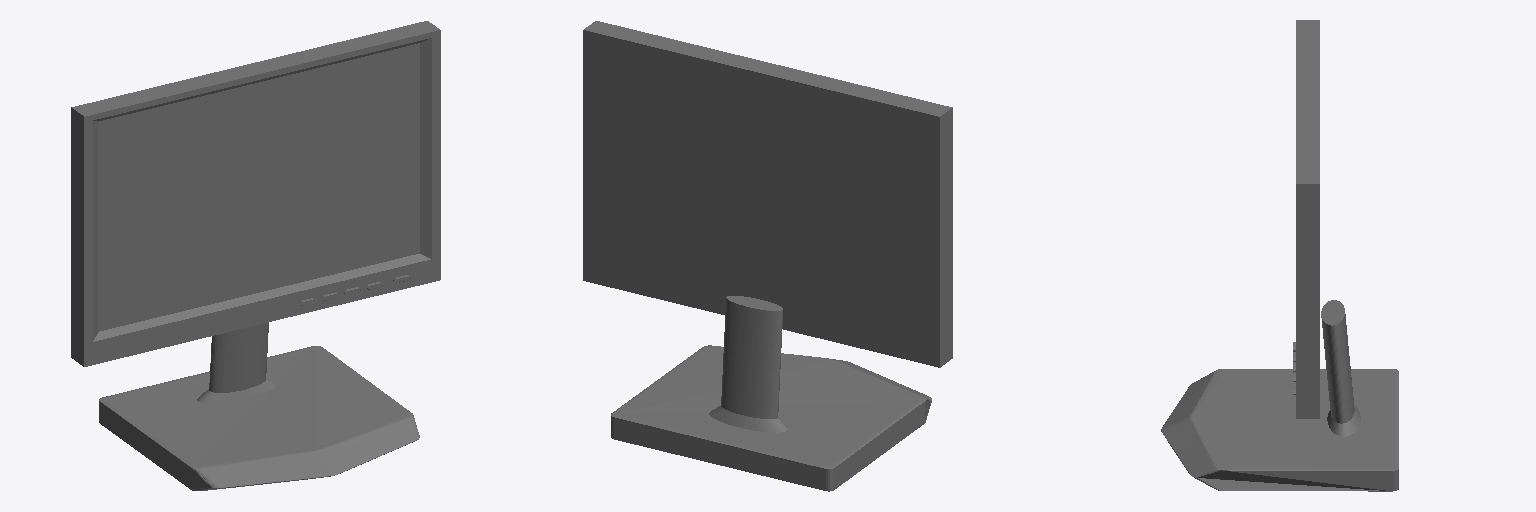
robot.urdf — tray:
<robot name="tray">
  <link name="tray_base_link">
    <contact>
      <lateral_friction value="0.5"/>
      <rolling_friction value="0.0"/>
      <contact_cfm value="0.0"/>
      <contact_erp value="1.0"/>
    </contact>
    <inertial>
      <origin rpy="0 0 0" xyz="0 0 0"/>
      <mass value="0"/>
      <inertia ixx="0" ixy="0" ixz="0" iyy="0" iyz="0" izz="0"/>
    </inertial>
    <visual>
      <origin rpy="0 0 0" xyz="0 0 0"/>
      <geometry>
        <!-- <mesh filename="tray_textured4.obj" scale="0.5 0.5 0.5"/> -->
        <!-- <mesh filename="monitor.obj" scale="0.005 0.005 0.005"/> -->
        <mesh filename="monitor_v1.obj" scale="0.65 0.65 0.65"/>
      </geometry>
  <material name="grey">
    <color rgba="0.5 0.5 0.5 1.0"/>
  </material>
    </visual>
    <collision>
      <origin rpy="0 0 0" xyz="0 0 0"/>
      <geometry>
        <!-- <mesh filename="tray_textured4.obj" scale="0.5 0.5 0.5"/> -->
        <!-- <mesh filename="monitor.obj" scale="0.005 0.005 0.005"/> -->
        <mesh filename="monitor_v1.obj" scale="0.65 0.65 0.65"/>
      </geometry>
    </collision>
  </link>
</robot>

--- Render facts (derived) ---
Views: 3 orthographic renders of the robot side by side, from view 1: azimuth 30°, elevation 25°; view 2: azimuth 150°, elevation 25°; view 3: azimuth 270°, elevation 25°.
Robot: tray — 1 links, 0 joints (none); root link tray_base_link; default pose: every joint at zero.
Visible links, largest first — view 1: tray_base_link; view 2: tray_base_link; view 3: tray_base_link.
Boxes of the visible links, left/top/right/bottom form: tray_base_link: left=71, top=21, right=440, bottom=490; tray_base_link: left=583, top=21, right=952, bottom=491; tray_base_link: left=1161, top=20, right=1398, bottom=491.
Bounding box of the posed robot: 0.0208 × 0.0128 × 0.0203 m (x, y, z).
1 mesh visuals loaded from 1 distinct referenced files (1 OBJ).